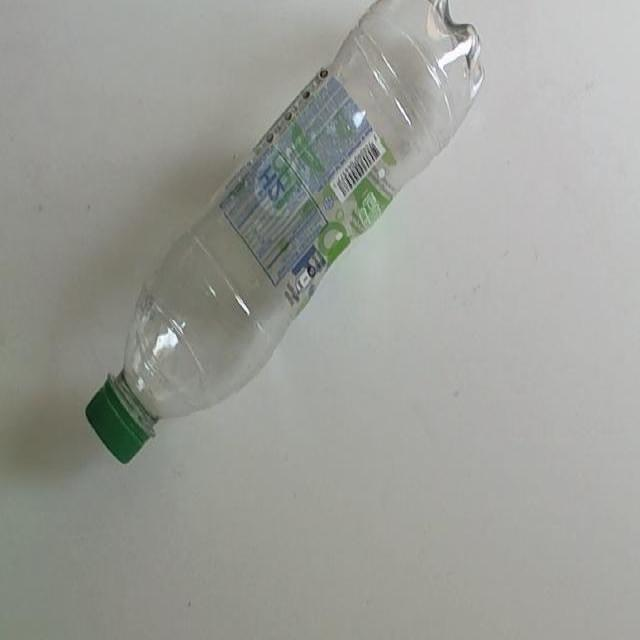non-defect: (83, 0, 486, 468)
